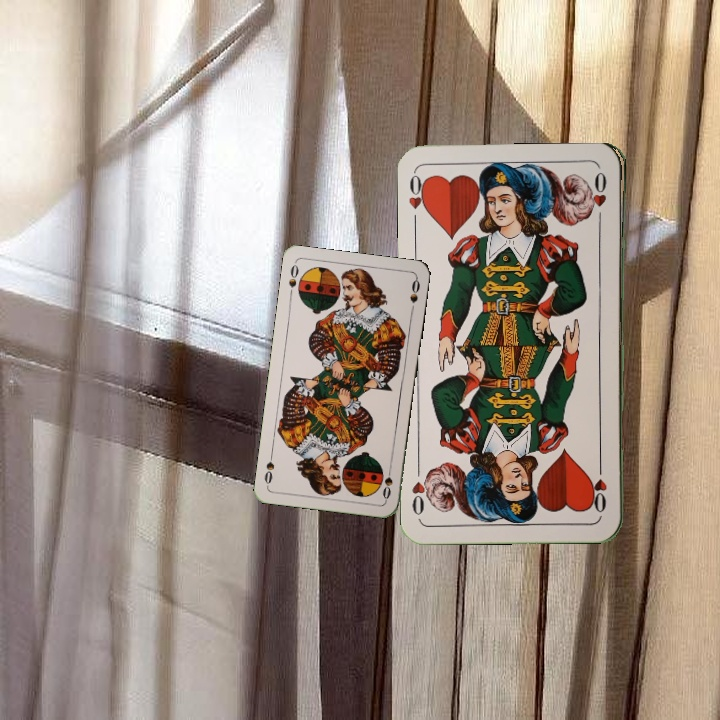HO: (404, 169, 431, 228), (593, 458, 610, 516)
SO: (284, 260, 301, 300), (379, 462, 395, 502)
